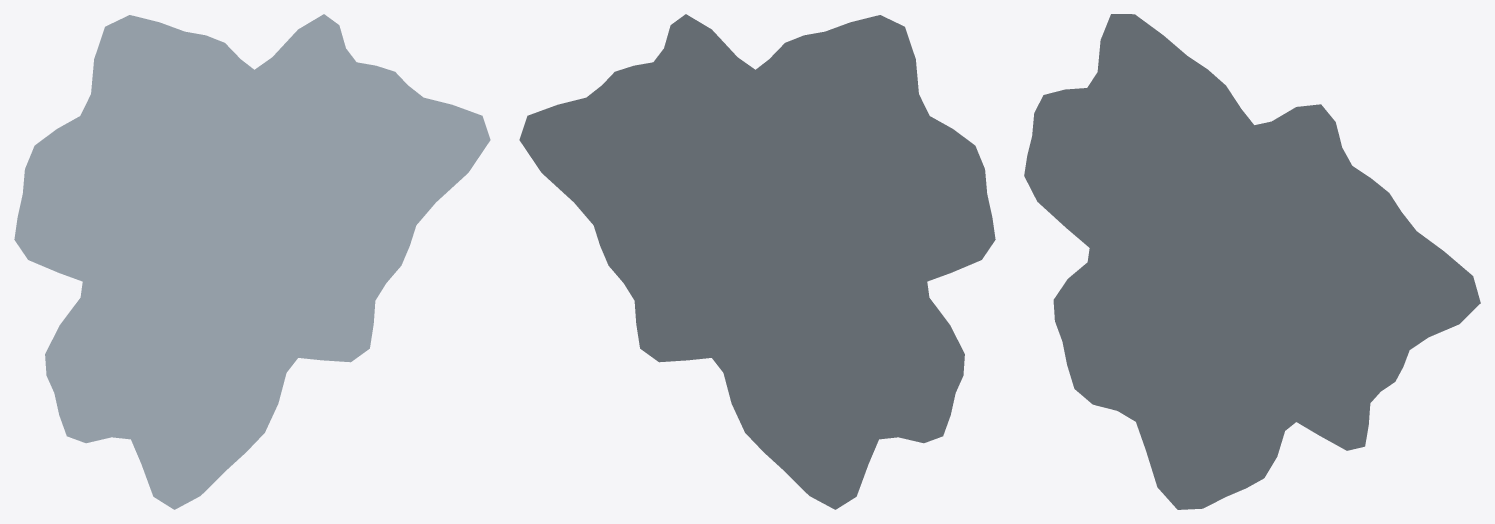
Rendered from 2046_DustSplash_MudBlotch1.fbx.
3 views of the same model, side by side, from view 1: azimuth 30°, elevation 25°; view 2: azimuth 150°, elevation 25°; view 3: azimuth 330°, elevation 25° (orthographic). The views are drawn at different scales.
Visible parts, largest first — view 1: PART_IrregularMudBlotch1; view 2: PART_IrregularMudBlotch1; view 3: PART_IrregularMudBlotch1.
Part boxes in pixels (x1,y1,x2,y2): PART_IrregularMudBlotch1: [14, 14, 490, 509]; PART_IrregularMudBlotch1: [519, 14, 995, 509]; PART_IrregularMudBlotch1: [1024, 14, 1480, 509].
Bounding box in the file's own units: 232 × 236 × 3.84e-05.
